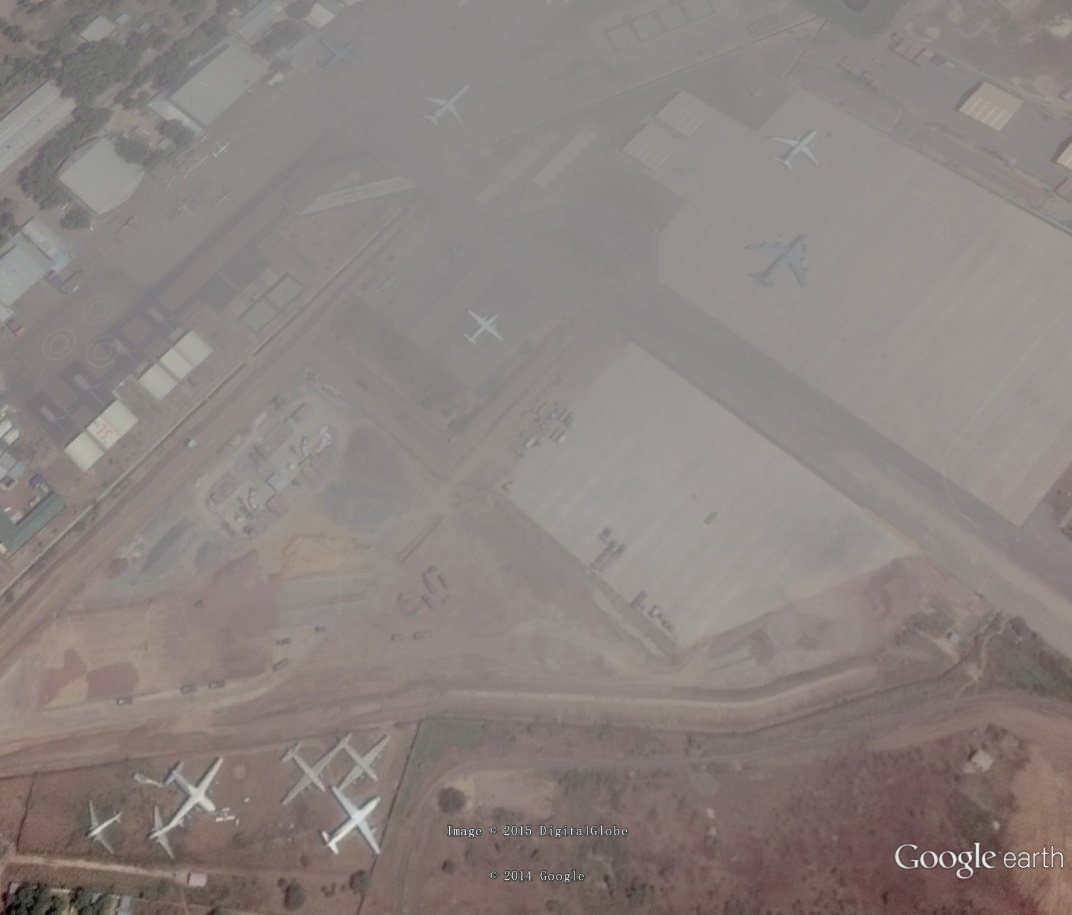aircraft: (319, 783, 388, 862), (277, 738, 353, 808), (160, 756, 229, 826), (744, 232, 814, 294), (332, 735, 392, 792), (83, 799, 130, 861), (765, 126, 825, 174), (418, 82, 473, 133), (146, 802, 190, 865), (463, 307, 508, 352), (316, 36, 359, 72), (209, 139, 233, 163)
